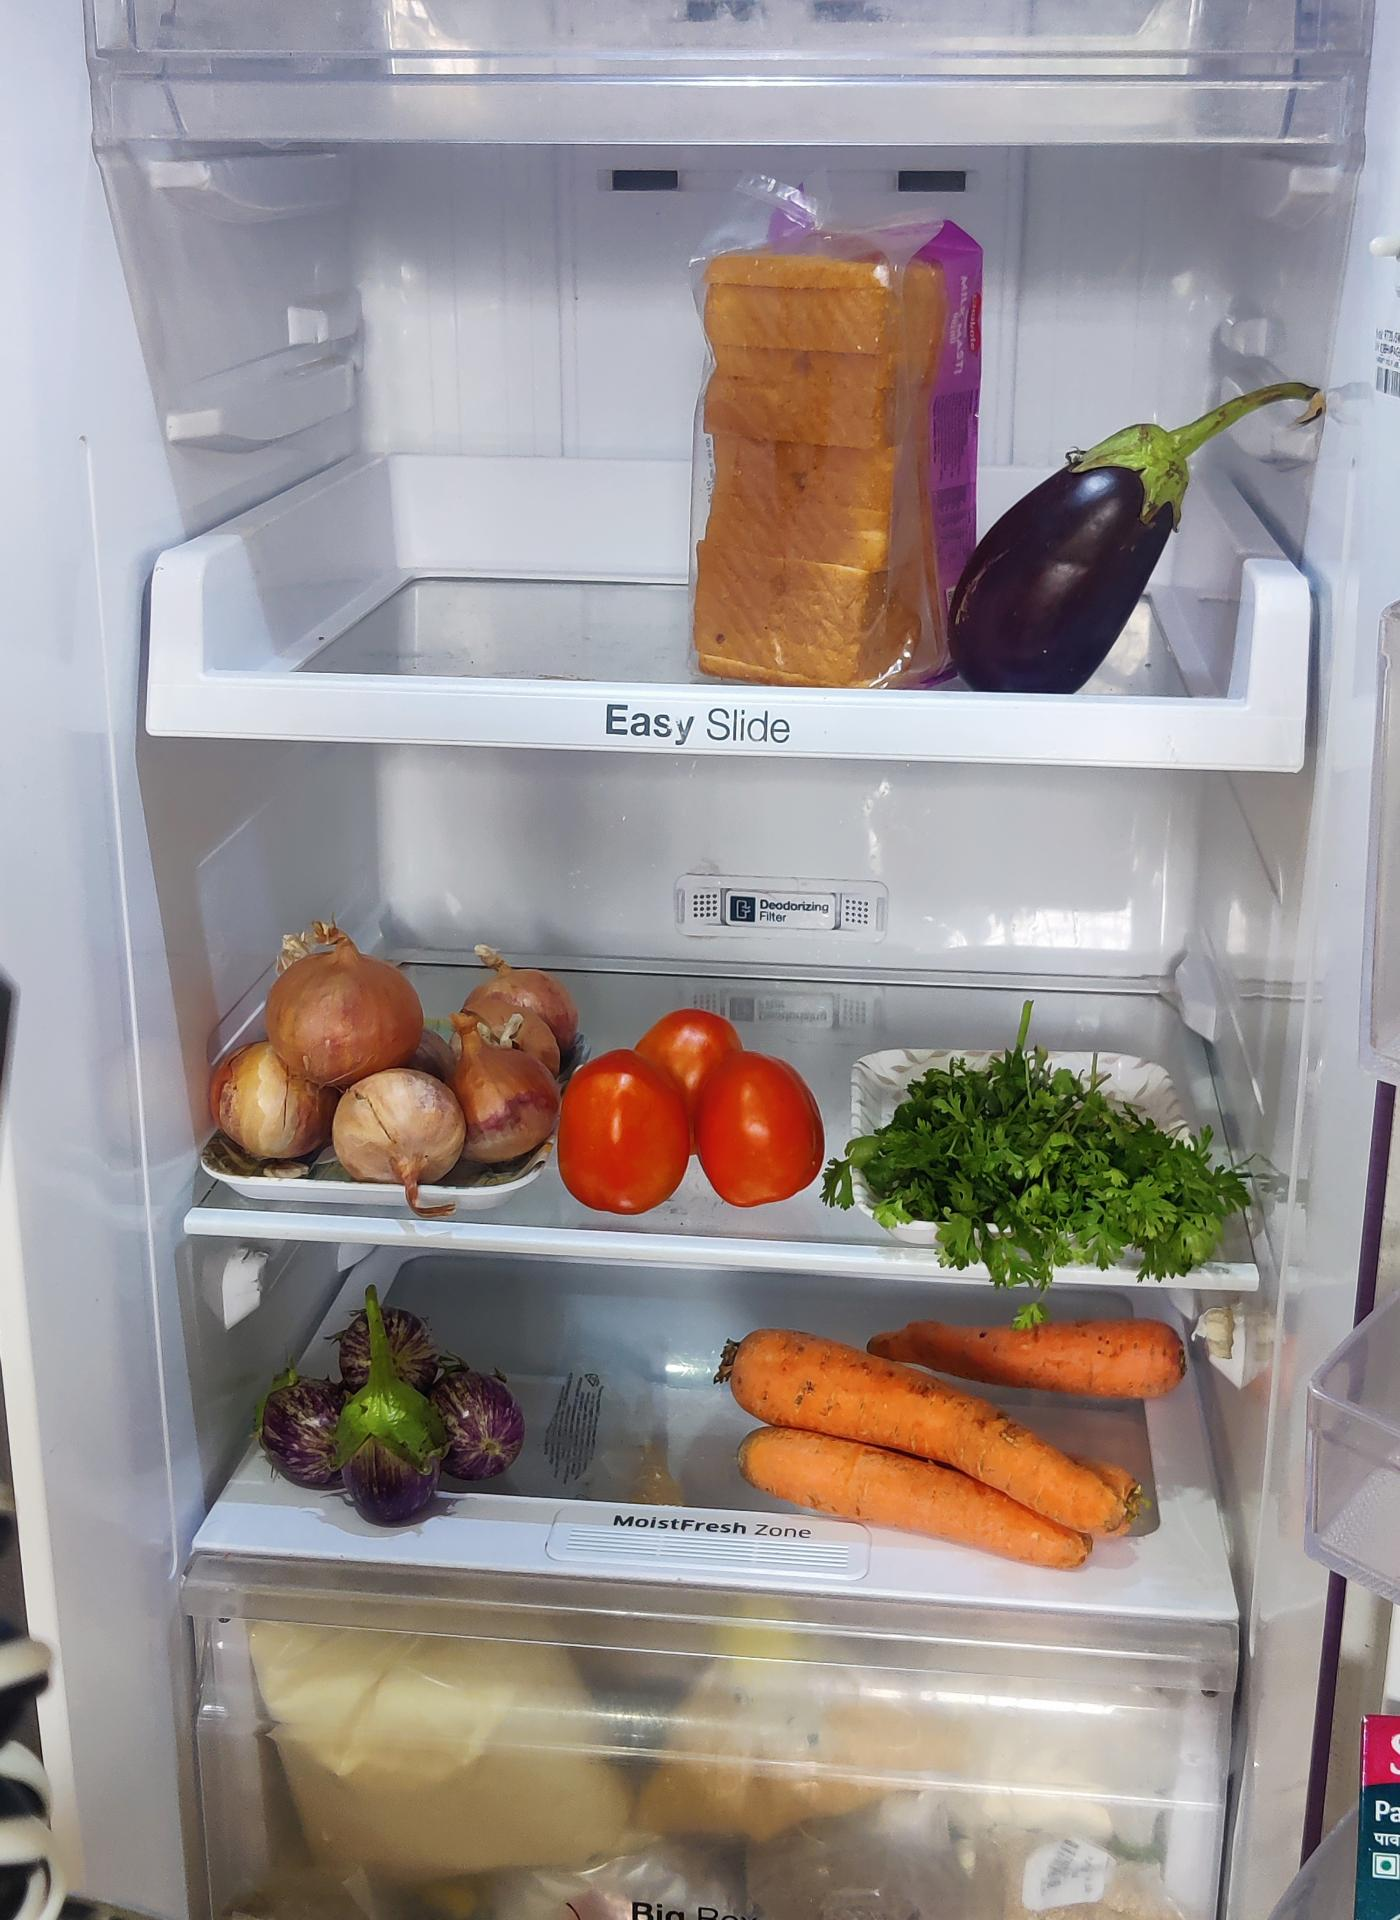bread: (678, 215, 987, 687)
brinjal: (267, 1288, 532, 1525), (986, 434, 1194, 683)
carrots: (714, 1327, 1173, 1574)
coriander: (844, 1057, 1257, 1283)
onion: (213, 923, 584, 1185)
tomato: (558, 1005, 823, 1209)
